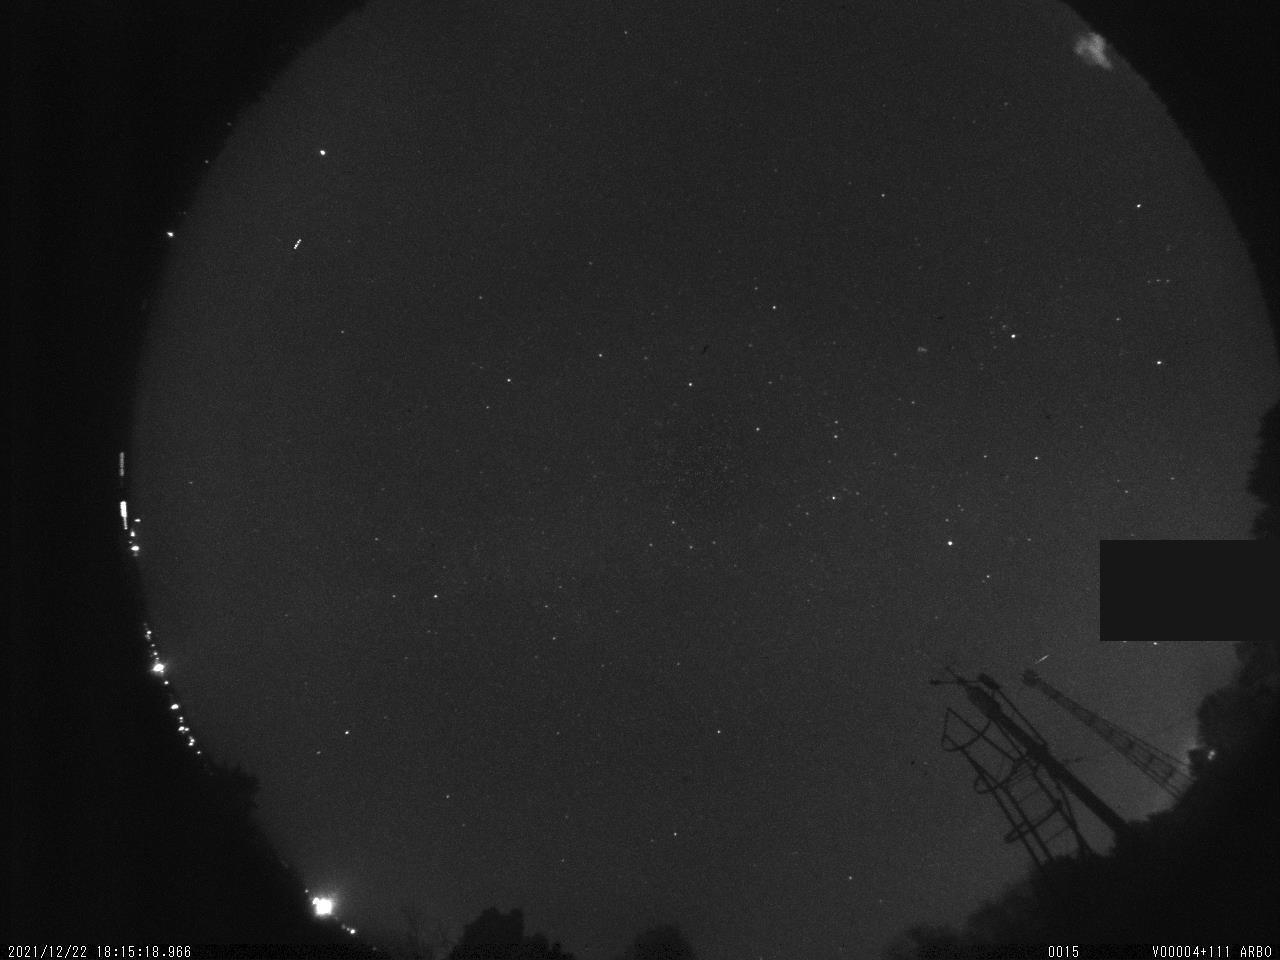Meteor: (1028, 650, 1056, 670)
